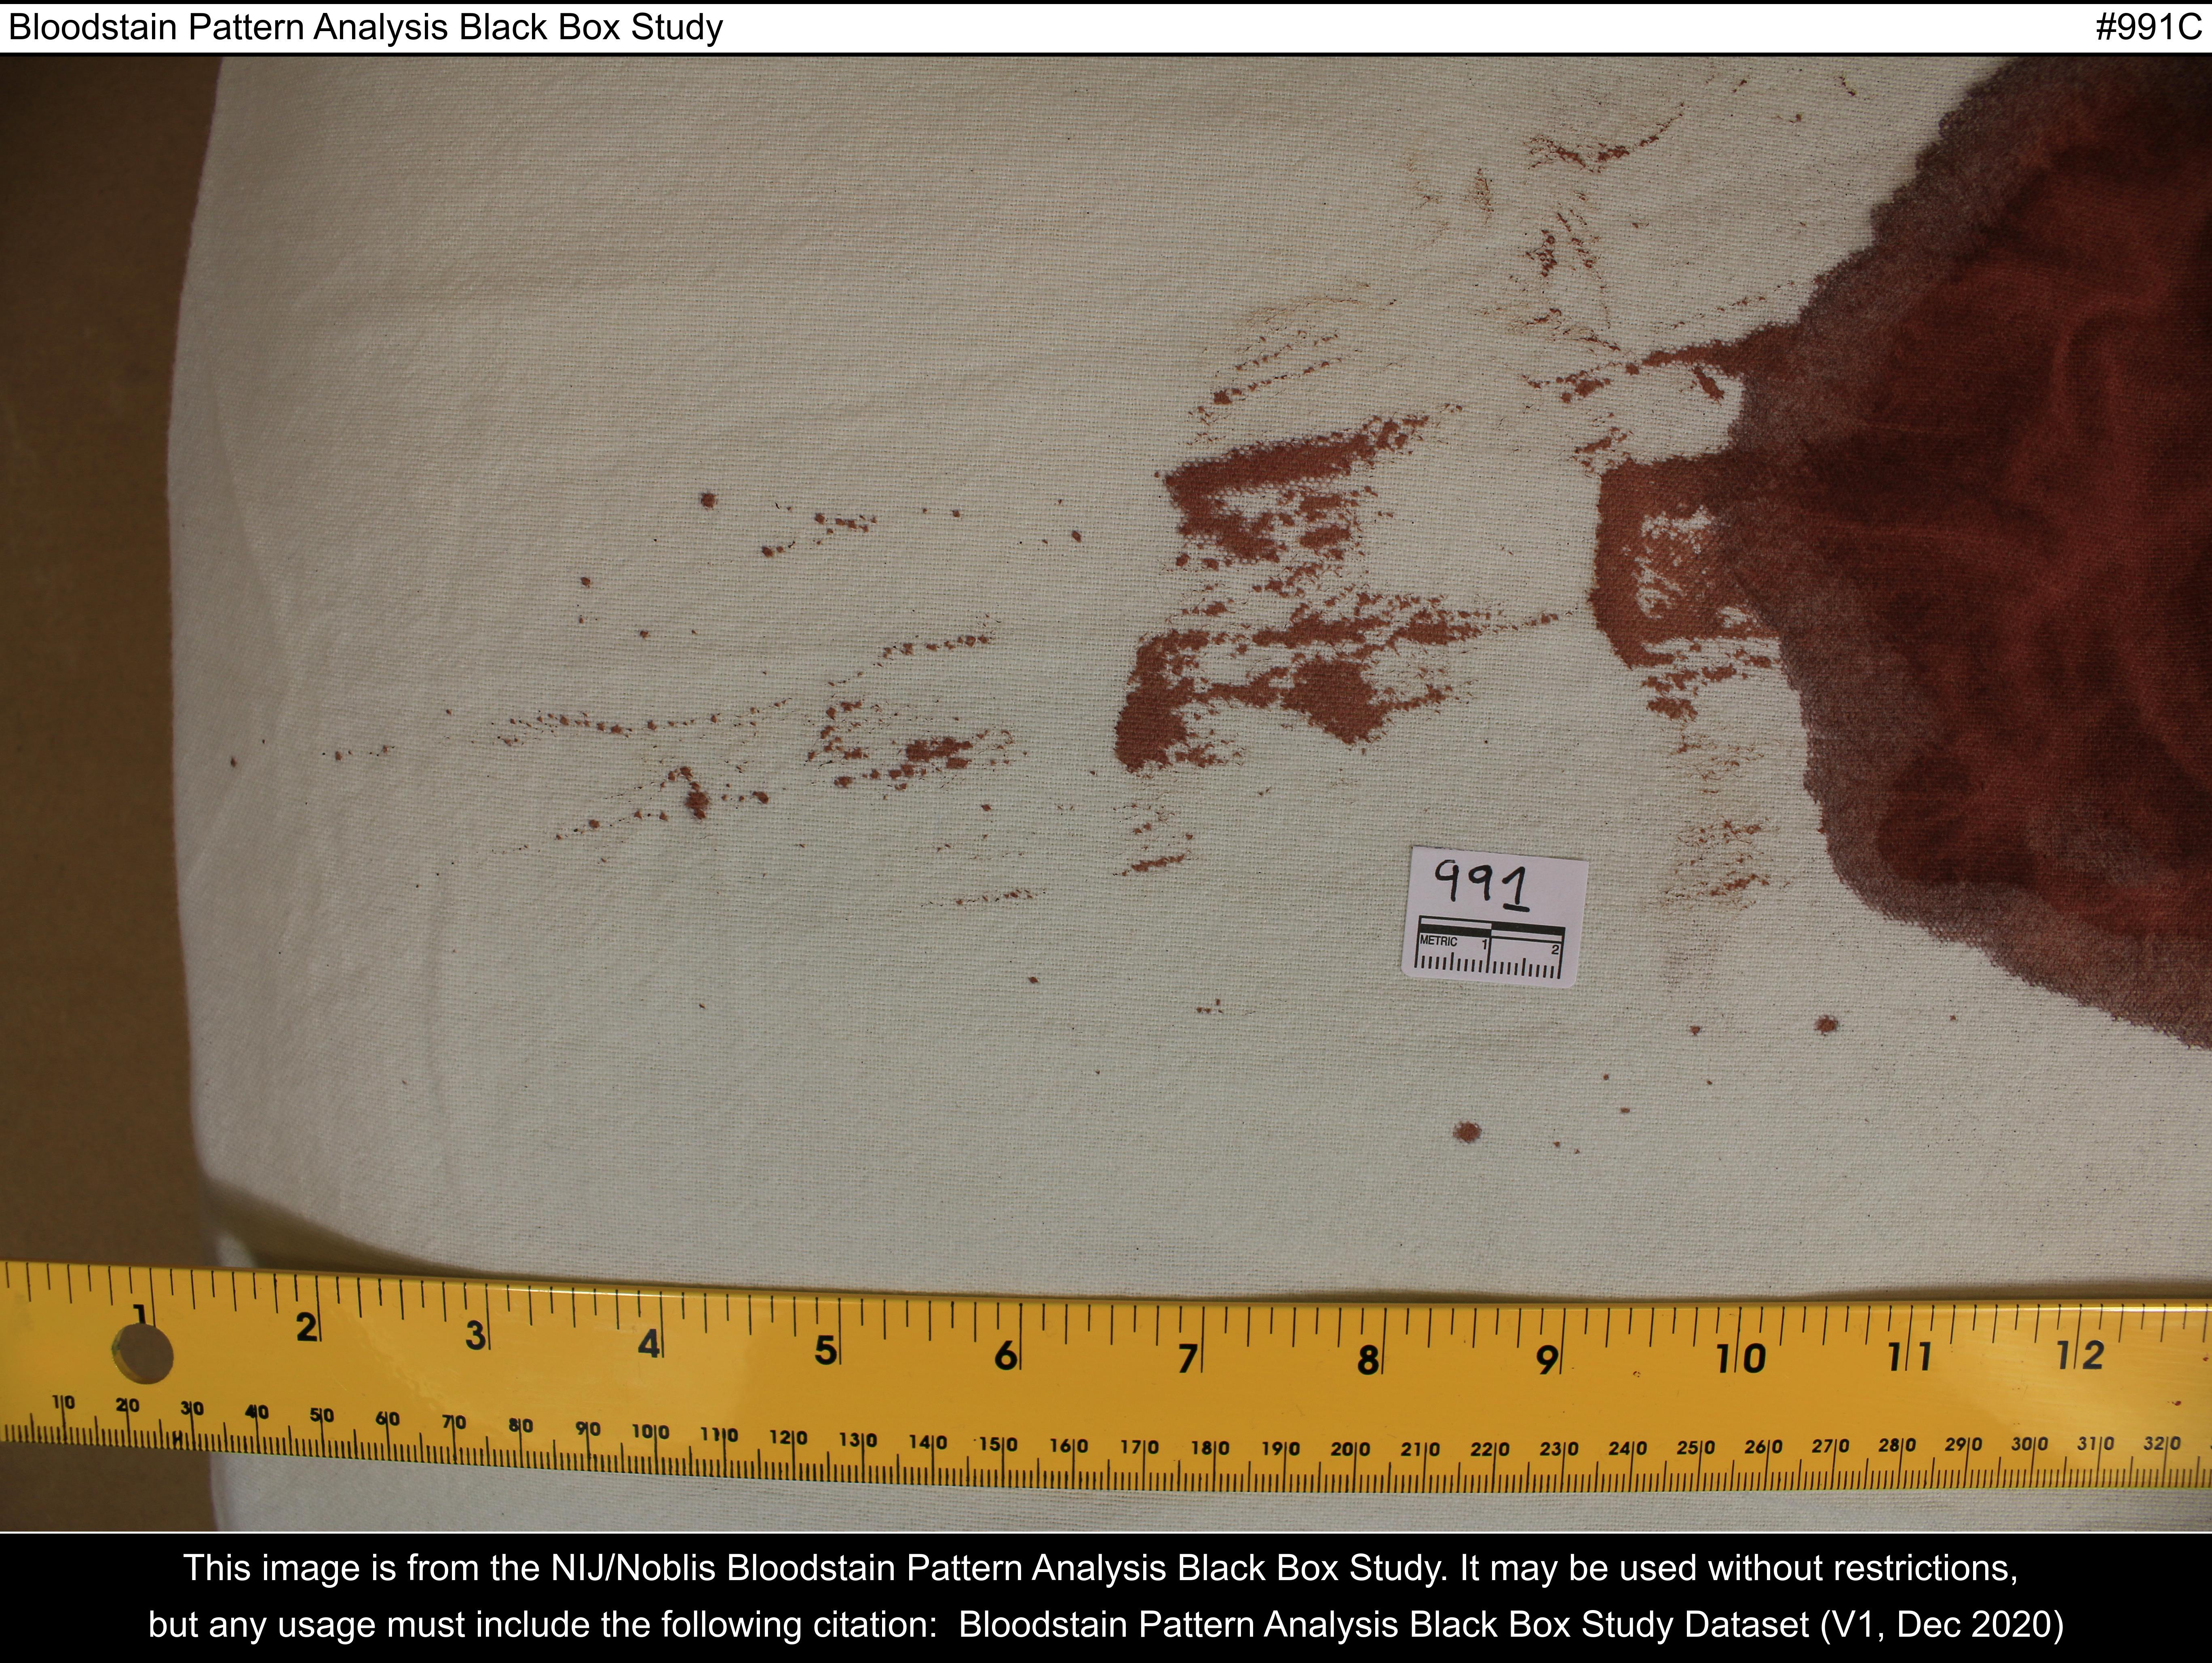Transfer: (215, 59, 2212, 1156)
